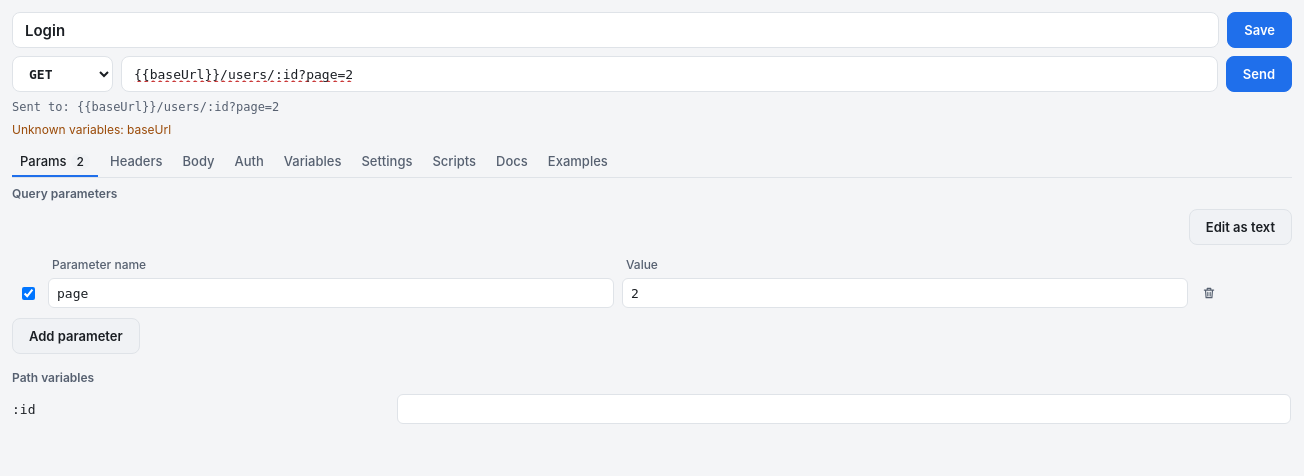
Test: RequestEditor › edits query parameters and path variables in step with the URL
This screenshot has width=1304, height=476.
Expected: the column heading ":id" is shown, [12,393,396,425]
Expected: the tab "Params 2" is shown, [12,145,98,177]
Click the button "Add parameter".
click(76, 336)  # box [12,318,140,354]
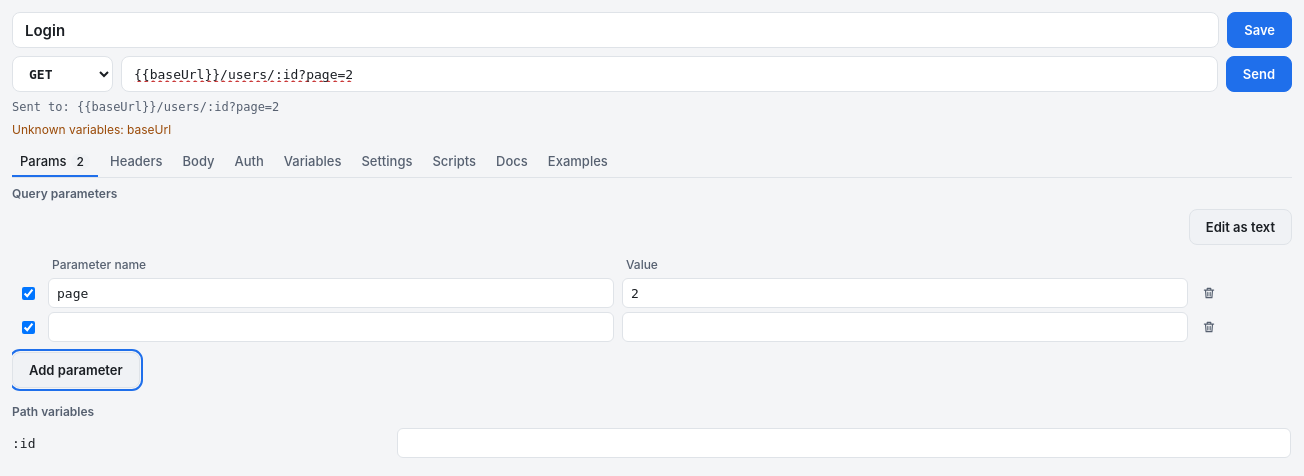
Type "q" into the 2nd field named "Parameter name".
click(331, 327); type("q")  # box [48,312,614,342]
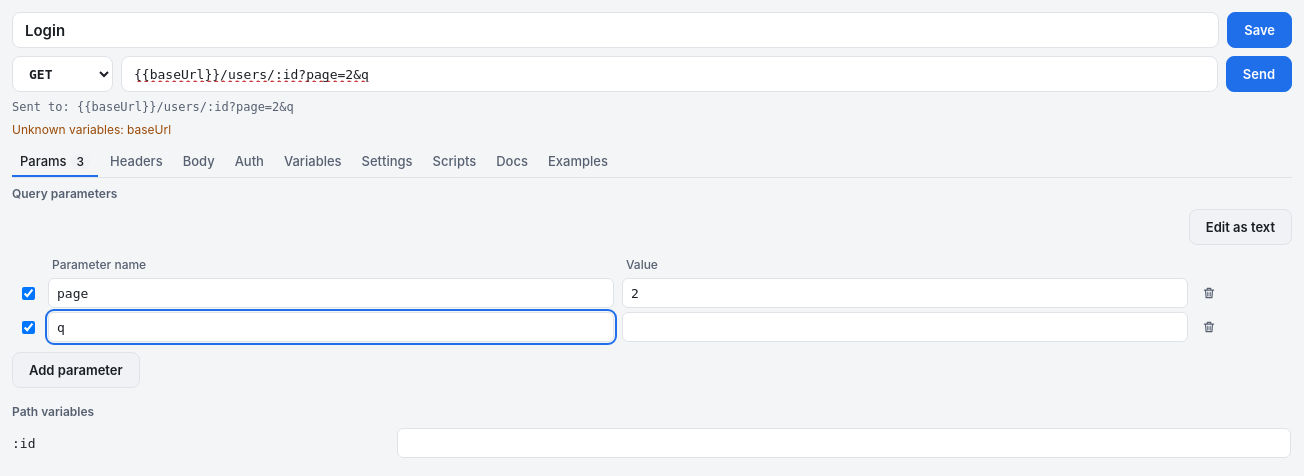
Type "tea" into the 2nd field named "Value".
click(905, 327); type("tea")  # box [622,312,1188,342]
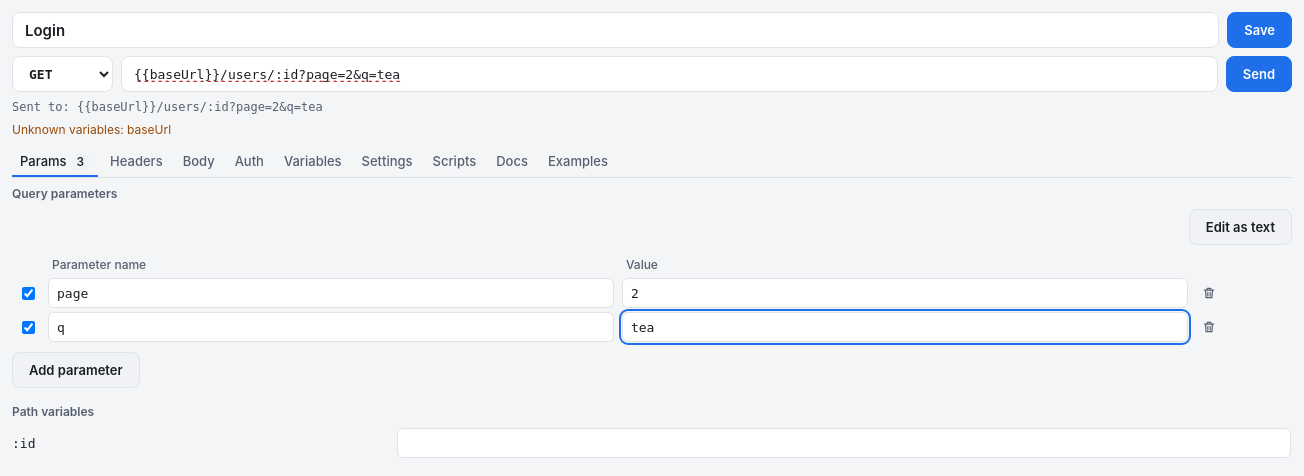
Click the 1st checkbox named "Send".
click(28, 293)  # box [22,286,35,300]
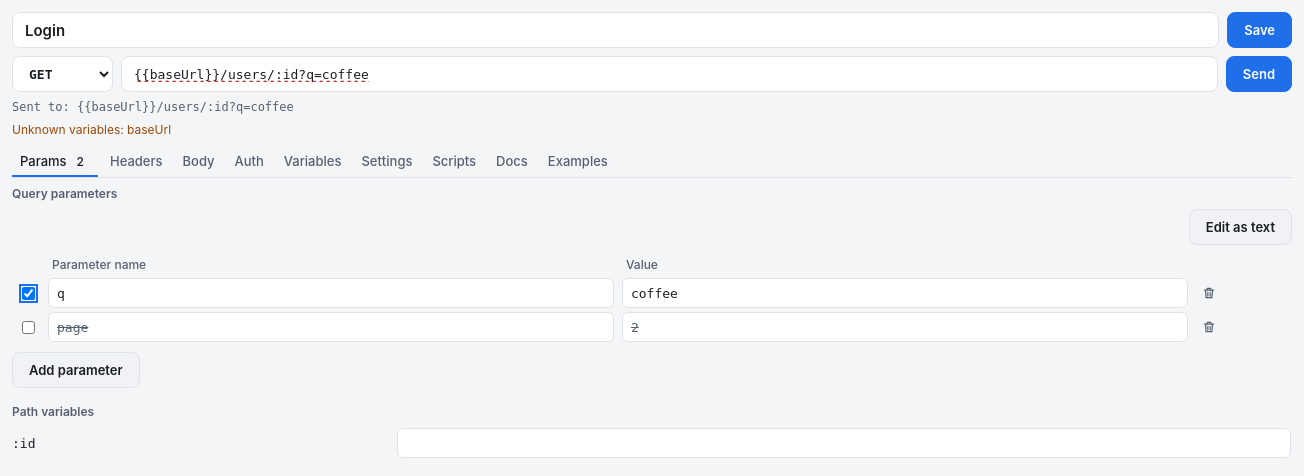
Expected: the 1st field showing "coffee" is shown, [622,278,1188,308]
Path variable values are kept and previewed.
Type "42" into the field named "Value of :id".
click(844, 443); type("42")  # box [397,428,1291,458]
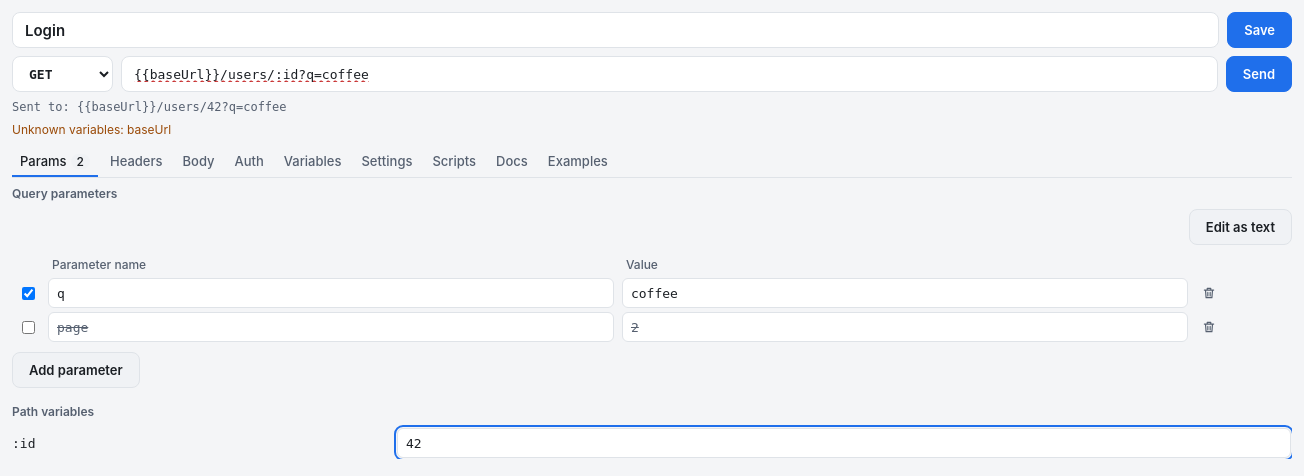
Expected: the text "Sent to: {{baseUrl}}/users/42?q=coffee" is shown, [12,100,286,114]
